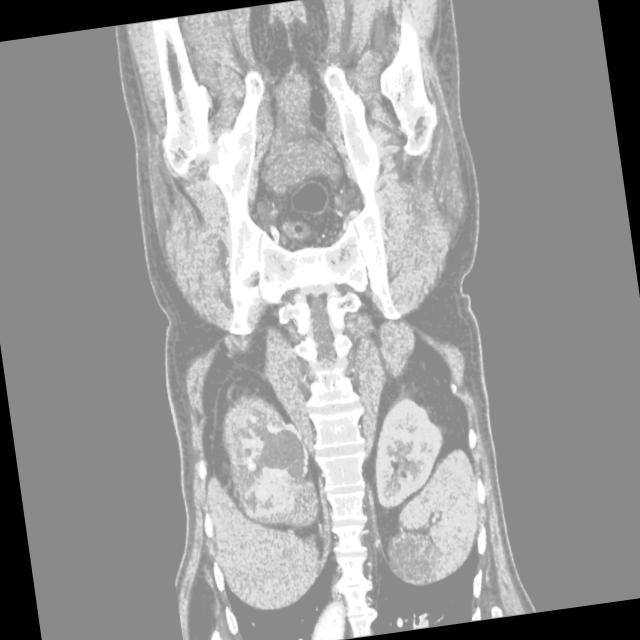TUMOR: (172, 345, 468, 558)
